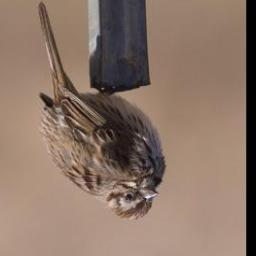Sparrow: (36, 0, 167, 222)
